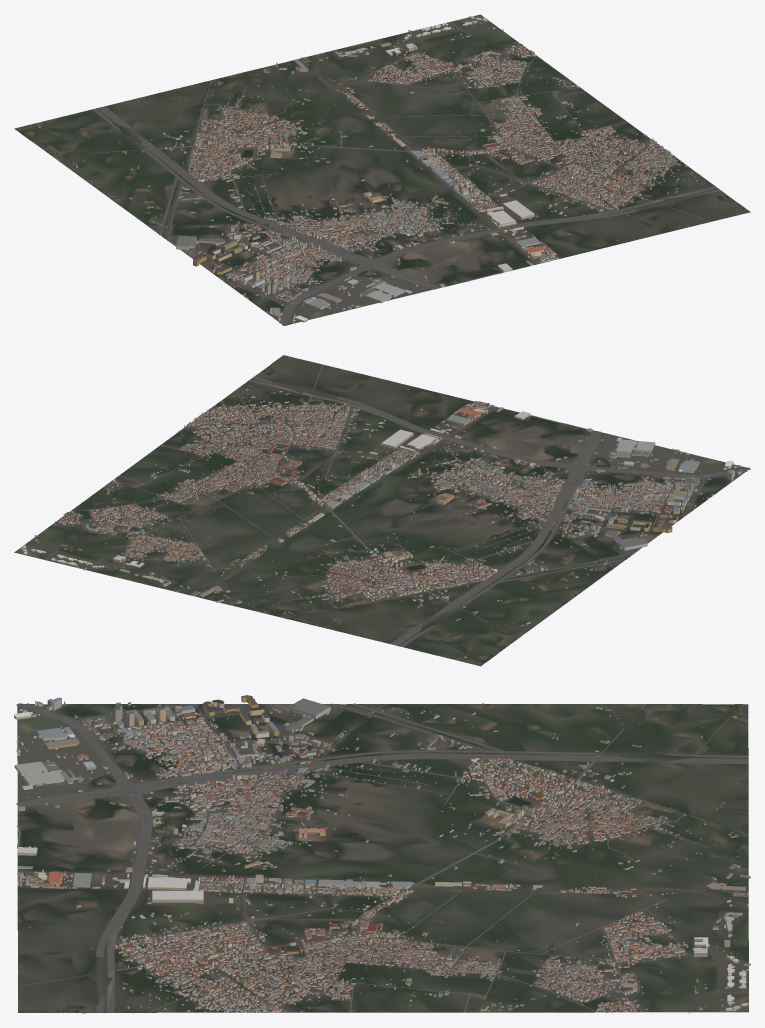
The picture shows the model from 3 angles, top to bottom: view 1: azimuth 30°, elevation 25°; view 2: azimuth 150°, elevation 25°; view 3: azimuth 270°, elevation 25°; orthographic projection. The views are drawn at different scales.
Visible parts, largest first — view 1: ground, buildings, roads; view 2: ground, buildings, roads; view 3: ground, buildings, roads, water.
Part boxes in pixels (x1=…): ground: x1=14, y1=14, x2=750, y2=325; buildings: x1=38, y1=16, x2=704, y2=322; roads: x1=37, y1=23, x2=721, y2=325; ground: x1=14, y1=355, x2=747, y2=666; buildings: x1=20, y1=385, x2=742, y2=658; roads: x1=45, y1=365, x2=750, y2=660; ground: x1=17, y1=704, x2=748, y2=1013; buildings: x1=14, y1=695, x2=750, y2=1013; roads: x1=16, y1=703, x2=748, y2=1012; water: x1=56, y1=704, x2=747, y2=1012.
Size of the model in its own units: 2840 by 58.95 by 2827.
